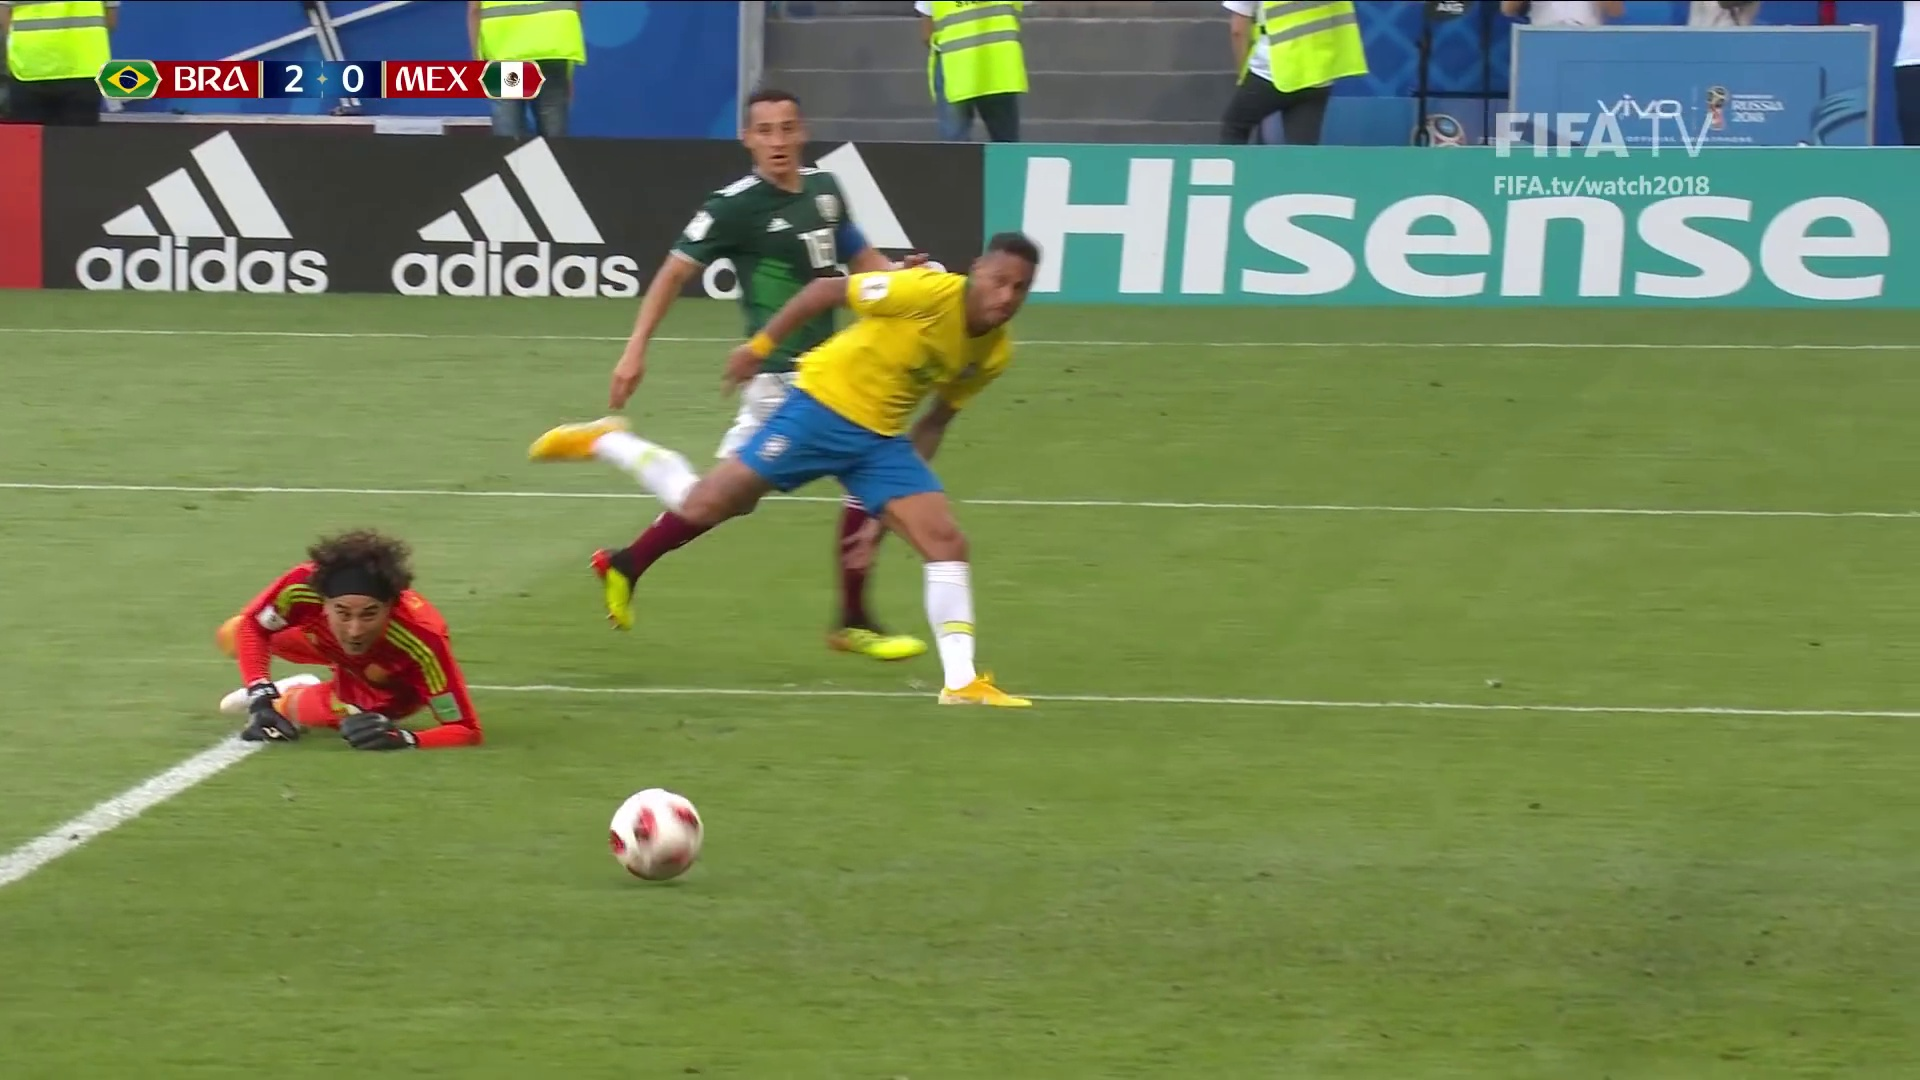ball: (609, 788, 701, 878)
person: (526, 232, 1042, 709), (615, 95, 928, 659), (198, 540, 484, 753)
